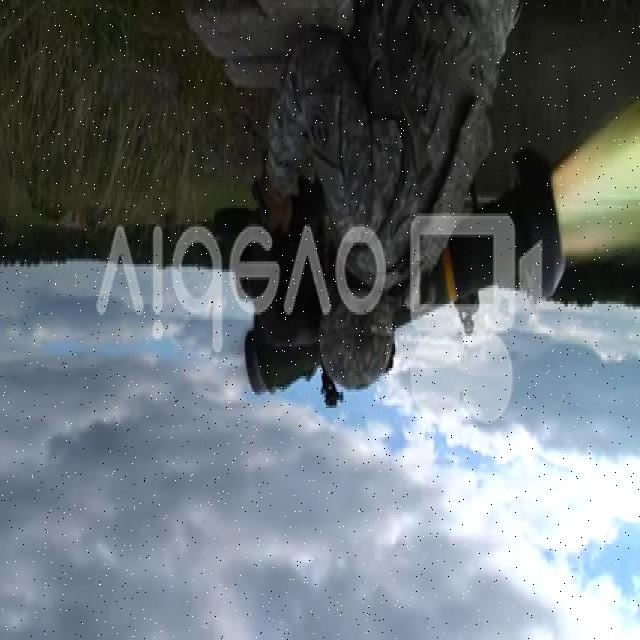bazooka: (242, 142, 574, 406)
